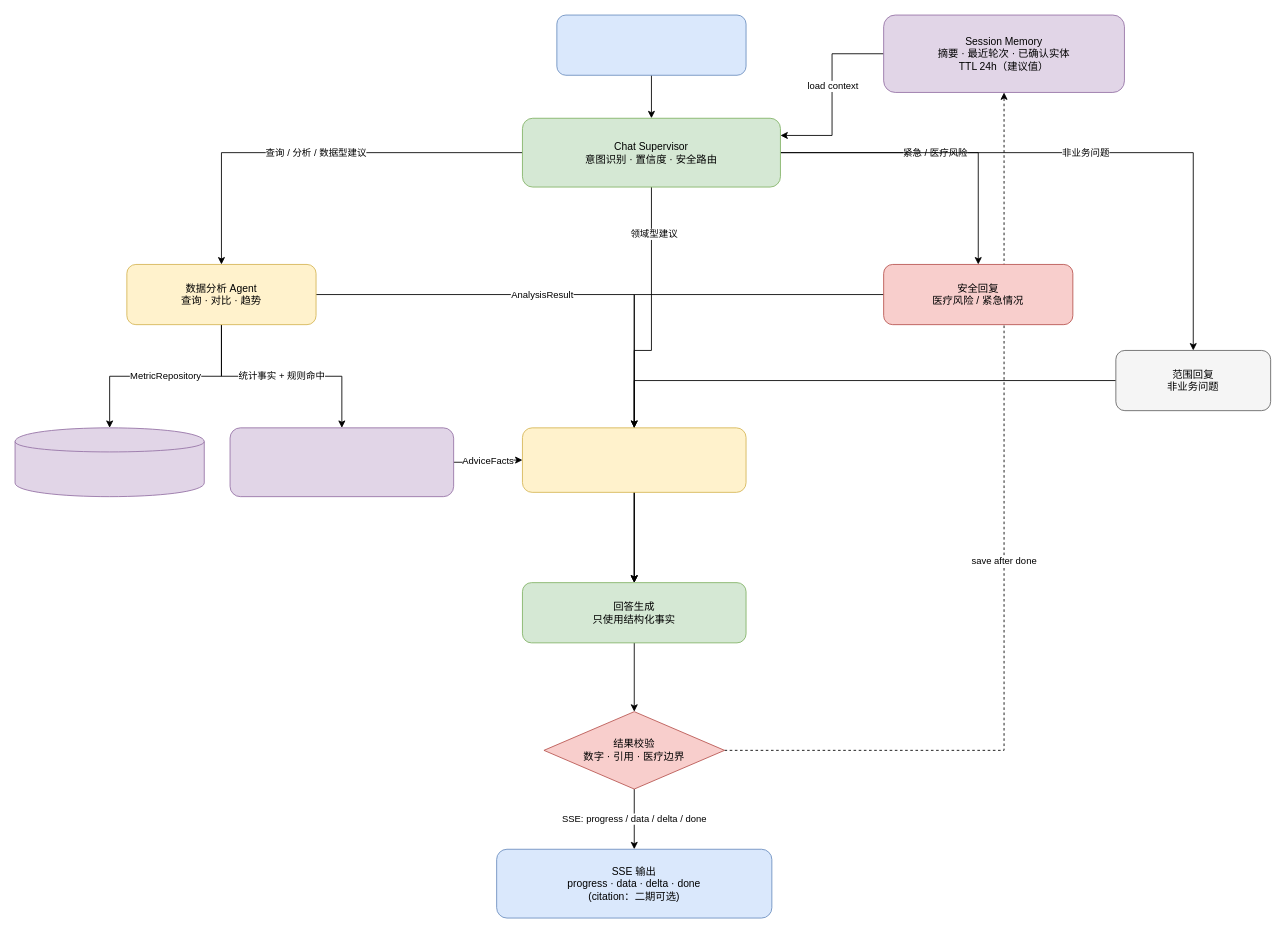
Some shapes in this 1286 by 933 pixel diagram are drawn without their labels. The shapes that lost their labels are listed below. From the top down, each one's centre as x and y in pixels, then its label:
At point 651,44: "Chat API POST /api/v1/chat/stream".
At point 109,462: "数据库 MetricRepository 适配层".
At point 341,462: "确定性分析与规则引擎 不由 Agent 自由计算".
At point 634,459: "业务建议 Agent 饮食 · 运动 · 生活方式".
